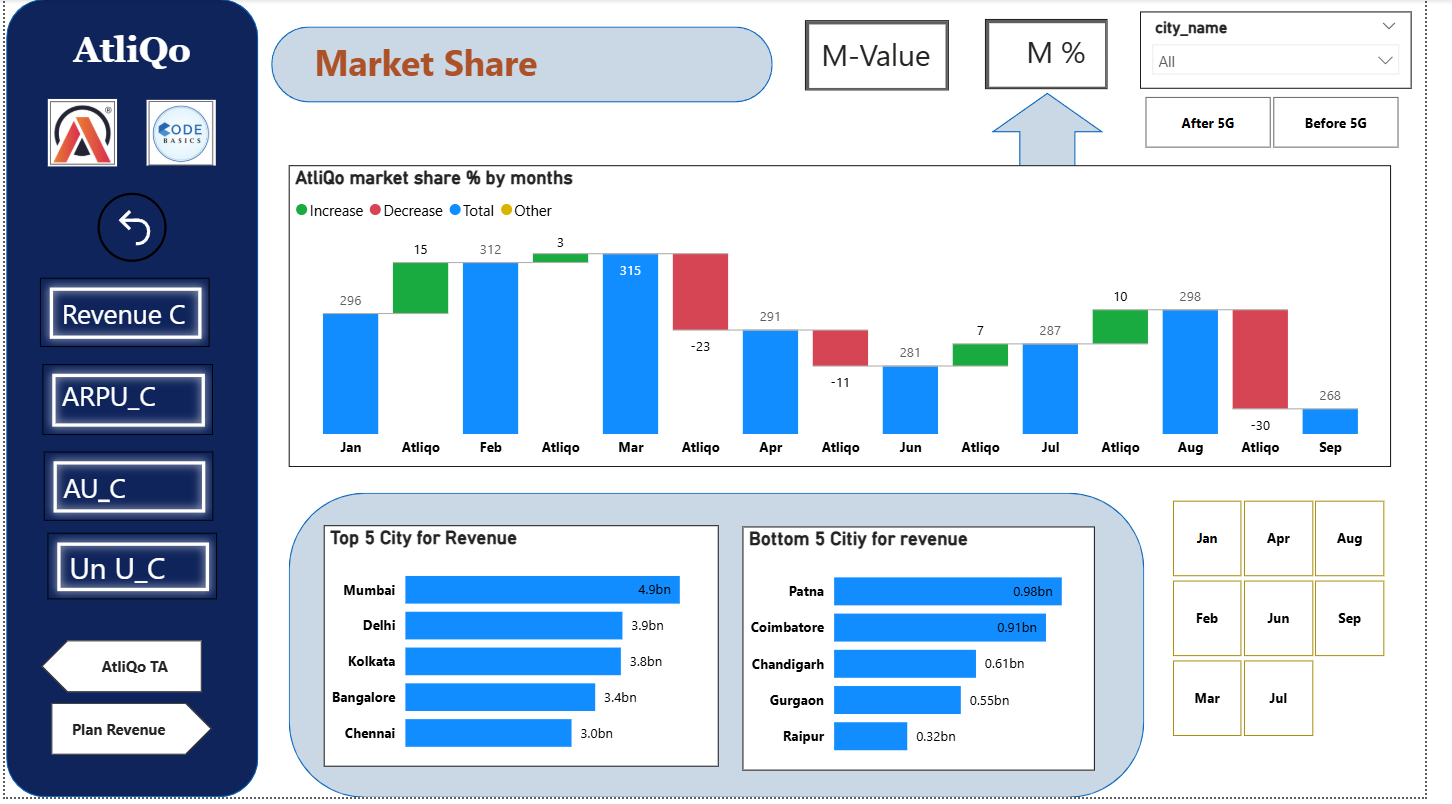

This screenshot's page, from the dashboard's own definition file:
{"tool":"powerbi","page":{"name":"Market Share","canvas":[1280,720],"ordinal":3},"visuals":[{"type":"clusteredBarChart","title":"Bottom 5 city for Unsubscribed users","fields":{"Category":["dim_cities.city_name"],"Y":["Revenue Atliqo.Unsubscribed users"]},"box":[676.7,463.1,316.5,231.6],"z":0,"group":"g1"},{"type":"shape","box":[746.2,87.5,83.8,71.2],"z":1000},{"type":"clusteredBarChart","title":"Top 5 city for Unsubscribed users","fields":{"Category":["dim_cities.city_name"],"Y":["Revenue Atliqo.Unsubscribed users"]},"box":[287.3,462.1,352.3,231.6],"z":1000,"group":"g1"},{"type":"shape","box":[255.5,445,771.3,275],"z":2000},{"type":"group","id":"g1","title":"UU","box":[287.3,462.1,706.6,233.5],"z":6000},{"type":"group","id":"g2","title":"Title","box":[1.5,0,1267.5,720],"z":7000},{"type":"shape","box":[1.5,0,227.4,720],"z":7500,"group":"g2"},{"type":"slicer","fields":{"Values":["dim_cities.city_name"]},"box":[1023.2,11,244.5,69.7],"z":8000},{"type":"waterfallChart","fields":{"Y":["Table.Total TMV-City"],"Category":["dim_date.month_name"],"Breakdown":["fact_atliqo_metrics.company"]},"box":[249,141.2,1020,281.2],"z":8500,"group":"g2"},{"type":"actionButton","box":[32.1,251.8,153,62.3],"z":9000,"group":"g2"},{"type":"slicer","fields":{"Values":["dim_date.before/after_5g"]},"box":[1001.2,81.2,278.8,60],"z":10000},{"type":"actionButton","box":[34,328.8,153.8,63.8],"z":10000,"group":"g2"},{"type":"actionButton","box":[721.2,18.7,129.6,63.6],"z":11000,"group":"g3"},{"type":"actionButton","box":[35.7,408.3,153,62.3],"z":11000,"group":"g2"},{"type":"slicer","fields":{"Values":["dim_date.month_name"]},"box":[1026.8,445,240.8,226.1],"z":11000},{"type":"group","id":"g3","title":"Buttons","box":[721.2,17.5,272.6,64.8],"z":12000},{"type":"actionButton","box":[883.8,17.5,110,63.6],"z":12000,"group":"g3"},{"type":"actionButton","box":[38.2,481.6,153,59.9],"z":12000,"group":"g2"},{"type":"textbox","box":[898.4,23.6,80.7,53.8],"z":13000,"group":"g3"},{"type":"shape","box":[83.1,174.8,62.3,62.3],"z":13000},{"type":"textbox","box":[52.8,489,106.3,46.5],"z":13000,"group":"g2"},{"type":"actionButton","box":[95.3,184.6,50.1,42.8],"z":14000},{"type":"textbox","box":[35.7,419.3,91.7,50.1],"z":14000,"group":"g2"},{"type":"shape","box":[239.6,24.4,452.3,68.5],"z":15000},{"type":"textbox","box":[723.3,26.7,145.5,45.2],"z":15000,"group":"g3"},{"type":"textbox","box":[46.7,337.4,97.8,46.5],"z":15000,"group":"g2"},{"type":"textbox","box":[273.8,30.6,391.2,57.5],"z":16000},{"type":"textbox","box":[46.7,262.8,129.6,42.8],"z":16000,"group":"g2"},{"type":"pageNavigator","box":[41.2,634,145.5,47],"z":17000},{"type":"pageNavigator","box":[32.9,577.7,145,47],"z":18000},{"type":"image","box":[33.8,84.4,72,72.4],"z":19000},{"type":"image","box":[123,84.4,72,72.4],"z":20000},{"type":"textbox","box":[56.7,22.9,130.3,54.3],"z":21000}]}

Visuals, with their boxes in screenshot pixels (x1, y1, x2, y2), scaled from the page's 1280x720 canvas onto the 1452x804 screenshot:
"Bottom 5 city for Unsubscribed users" clusteredBarChart: (left=768, top=517, right=1127, bottom=776)
shape: (left=846, top=98, right=942, bottom=177)
"Top 5 city for Unsubscribed users" clusteredBarChart: (left=326, top=516, right=726, bottom=775)
shape: (left=290, top=497, right=1165, bottom=803)
"UU" group: (left=326, top=516, right=1127, bottom=777)
"Title" group: (left=2, top=0, right=1440, bottom=803)
shape: (left=2, top=0, right=260, bottom=803)
slicer - dim_cities.city_name: (left=1161, top=12, right=1438, bottom=90)
waterfallChart - Table.Total TMV-City x dim_date.month_name: (left=282, top=158, right=1440, bottom=472)
actionButton: (left=36, top=281, right=210, bottom=351)
slicer - dim_date.before/after_5g: (left=1136, top=91, right=1451, bottom=158)
actionButton: (left=39, top=367, right=213, bottom=438)
actionButton: (left=818, top=21, right=965, bottom=92)
actionButton: (left=40, top=456, right=214, bottom=526)
slicer - dim_date.month_name: (left=1165, top=497, right=1438, bottom=749)
"Buttons" group: (left=818, top=20, right=1127, bottom=92)
actionButton: (left=1003, top=20, right=1127, bottom=91)
actionButton: (left=43, top=538, right=217, bottom=605)
textbox: (left=1019, top=26, right=1111, bottom=86)
shape: (left=94, top=195, right=165, bottom=265)
textbox: (left=60, top=546, right=180, bottom=598)
actionButton: (left=108, top=206, right=165, bottom=254)
textbox: (left=40, top=468, right=145, bottom=524)
shape: (left=272, top=27, right=785, bottom=104)
textbox: (left=820, top=30, right=986, bottom=80)
textbox: (left=53, top=377, right=164, bottom=429)
textbox: (left=311, top=34, right=754, bottom=98)
textbox: (left=53, top=293, right=200, bottom=341)
pageNavigator: (left=47, top=708, right=212, bottom=760)
pageNavigator: (left=37, top=645, right=202, bottom=698)
image: (left=38, top=94, right=120, bottom=175)
image: (left=140, top=94, right=221, bottom=175)
textbox: (left=64, top=26, right=212, bottom=86)
